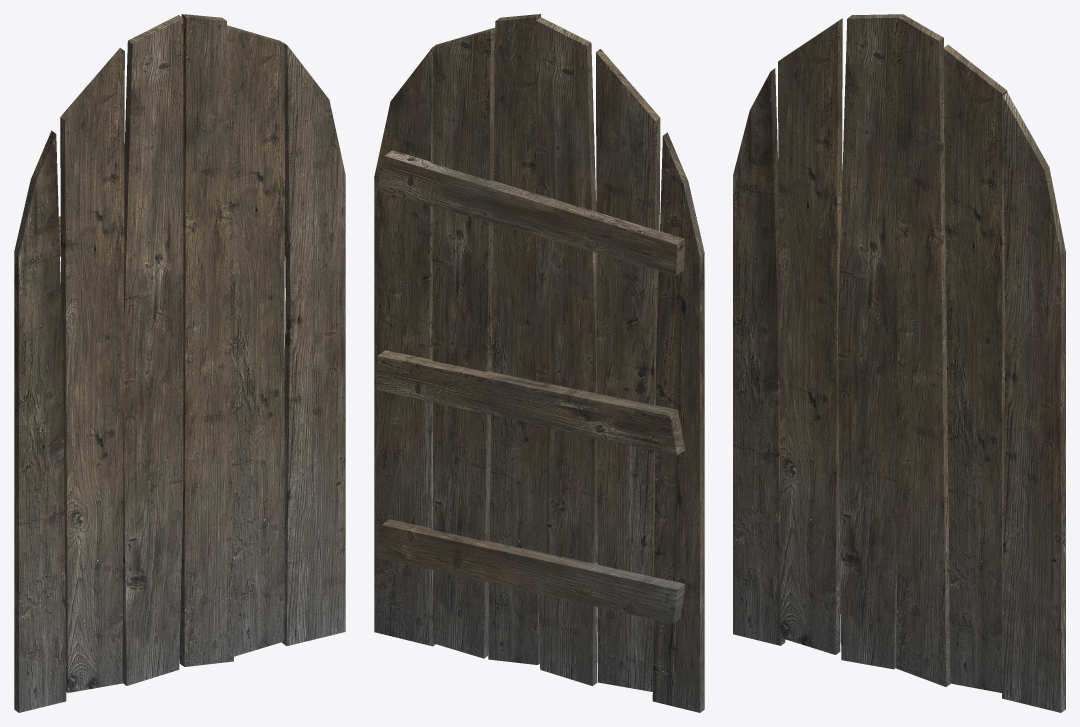
Rendered from House_11_doors_LOD1.fbx.
The picture shows the model from 3 angles, left to right: view 1: azimuth 30°, elevation 25°; view 2: azimuth 150°, elevation 25°; view 3: azimuth 330°, elevation 25°; orthographic projection.
Visible parts, largest first — view 1: polySurface3097; view 2: polySurface3097; view 3: polySurface3097.
Boxes of the visible parts, x1=… form: polySurface3097: x1=14, y1=14, x2=345, y2=712; polySurface3097: x1=374, y1=14, x2=704, y2=712; polySurface3097: x1=733, y1=14, x2=1065, y2=712.
Size of the model in its own units: 1.19 by 2.29 by 0.089.
